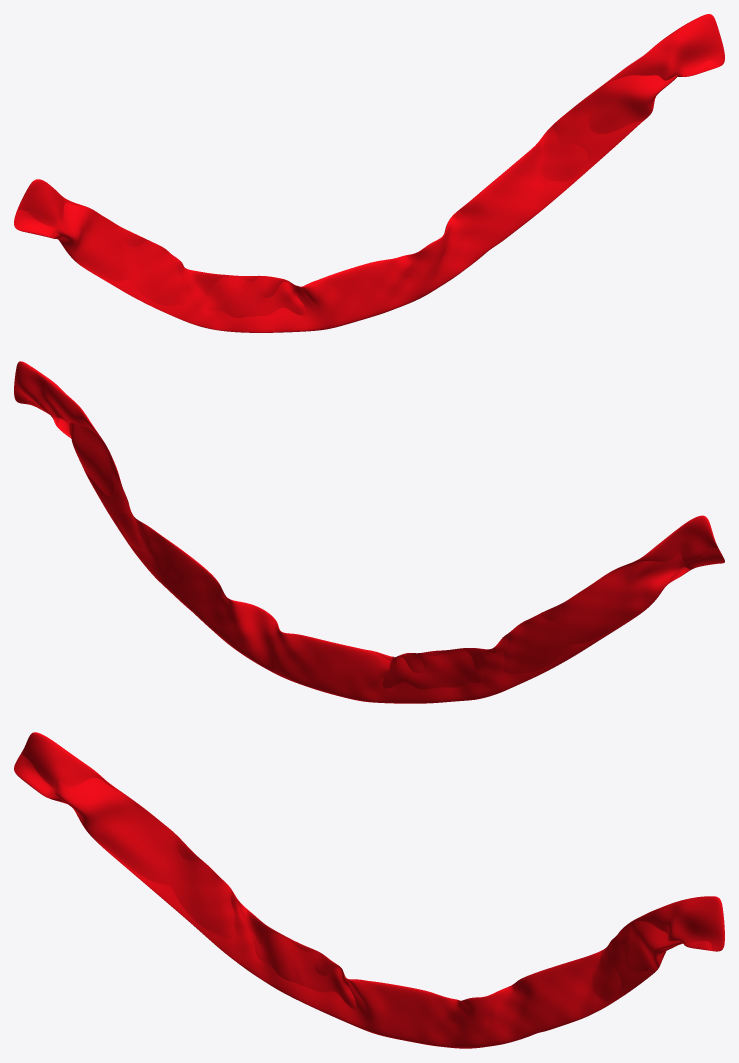
Rendered from banderolle.fbx.
3 renders of one model, top to bottom at view 1: azimuth 30°, elevation 25°; view 2: azimuth 150°, elevation 25°; view 3: azimuth 330°, elevation 25°, orthographic.
Visible parts, largest first — view 1: Cube; view 2: Cube; view 3: Cube.
Part boxes in pixels (x1,y1,x2,y2): Cube: [14, 14, 724, 332]; Cube: [14, 361, 724, 703]; Cube: [14, 732, 724, 1048].
Bounding box in the file's own units: 162 × 53.46 × 14.38.
